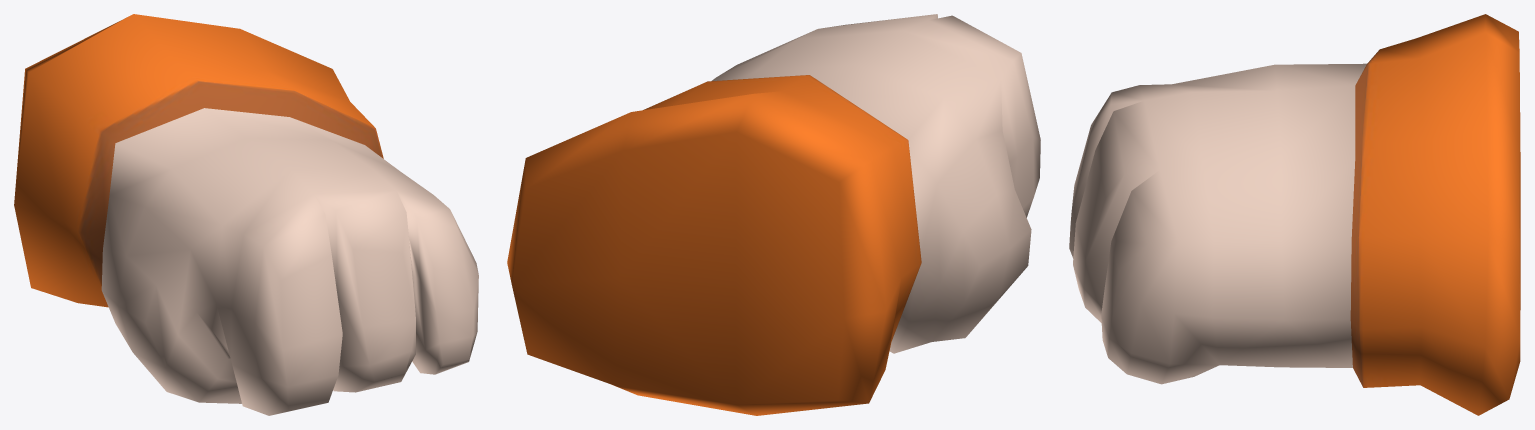
The model's file is HandPlaceHolder.fbx.
The picture shows the model from 3 angles, left to right: view 1: azimuth 30°, elevation 25°; view 2: azimuth 150°, elevation 25°; view 3: azimuth 270°, elevation 25°; orthographic projection. The views are drawn at different scales.
Visible parts, largest first — view 1: mrIqueaFist; view 2: mrIqueaFist; view 3: mrIqueaFist.
Part boxes in pixels (x1,y1,x2,y2): mrIqueaFist: (14, 14, 478, 415); mrIqueaFist: (507, 14, 1040, 415); mrIqueaFist: (1069, 14, 1520, 415).
Bounding box in the file's own units: 0.2428 × 0.2001 × 0.2744.
Materials: 1 (1 with a texture image).
